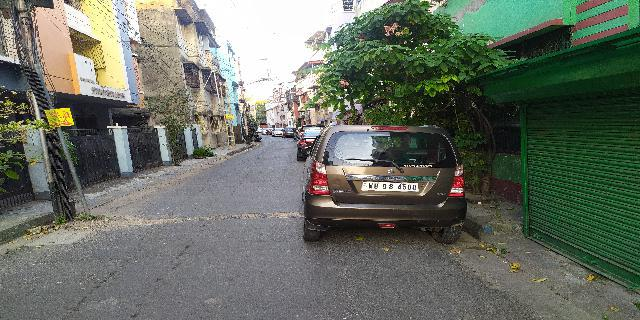Car: (305, 118, 466, 257)
